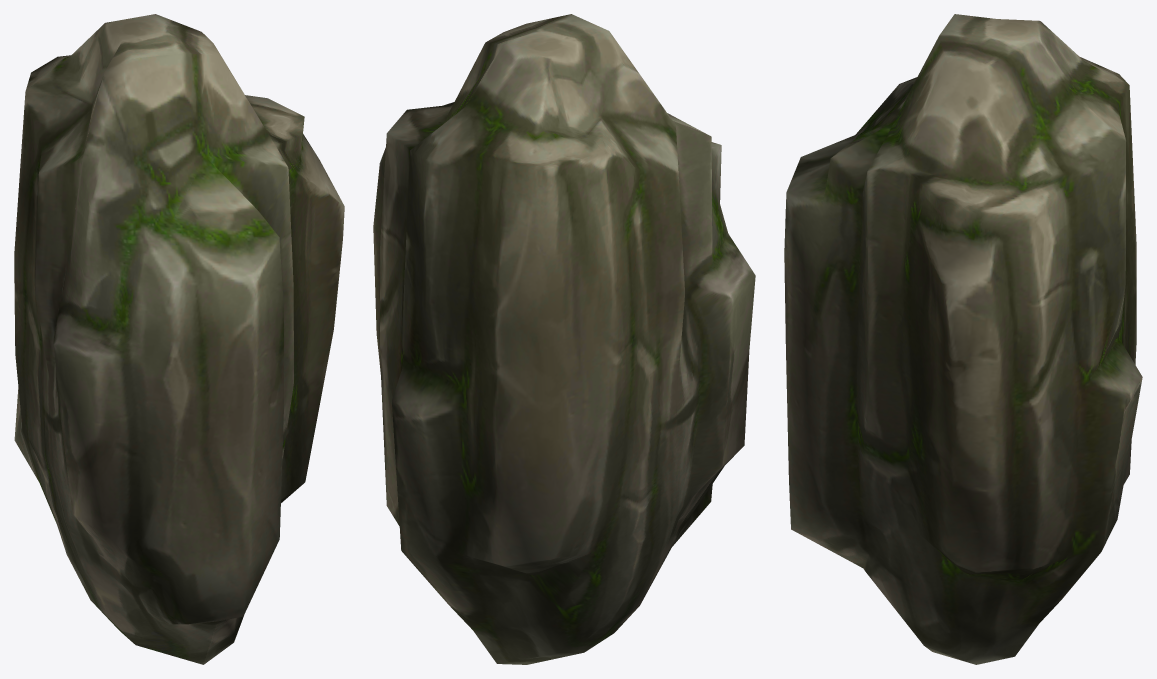
File: RockFormation_4_2 (7).fbx
3 renders of one model, left to right at view 1: azimuth 30°, elevation 25°; view 2: azimuth 150°, elevation 25°; view 3: azimuth 270°, elevation 25°, orthographic. The views are drawn at different scales.
Parts seen in each view (by area): view 1: RockFormation_4_2 (7); view 2: RockFormation_4_2 (7); view 3: RockFormation_4_2 (7).
Part boxes in pixels (bbox=[...]): RockFormation_4_2 (7): bbox=[14, 14, 344, 664]; RockFormation_4_2 (7): bbox=[373, 14, 755, 664]; RockFormation_4_2 (7): bbox=[784, 14, 1142, 664].
Size of the model in its own units: 192 by 372 by 195.
